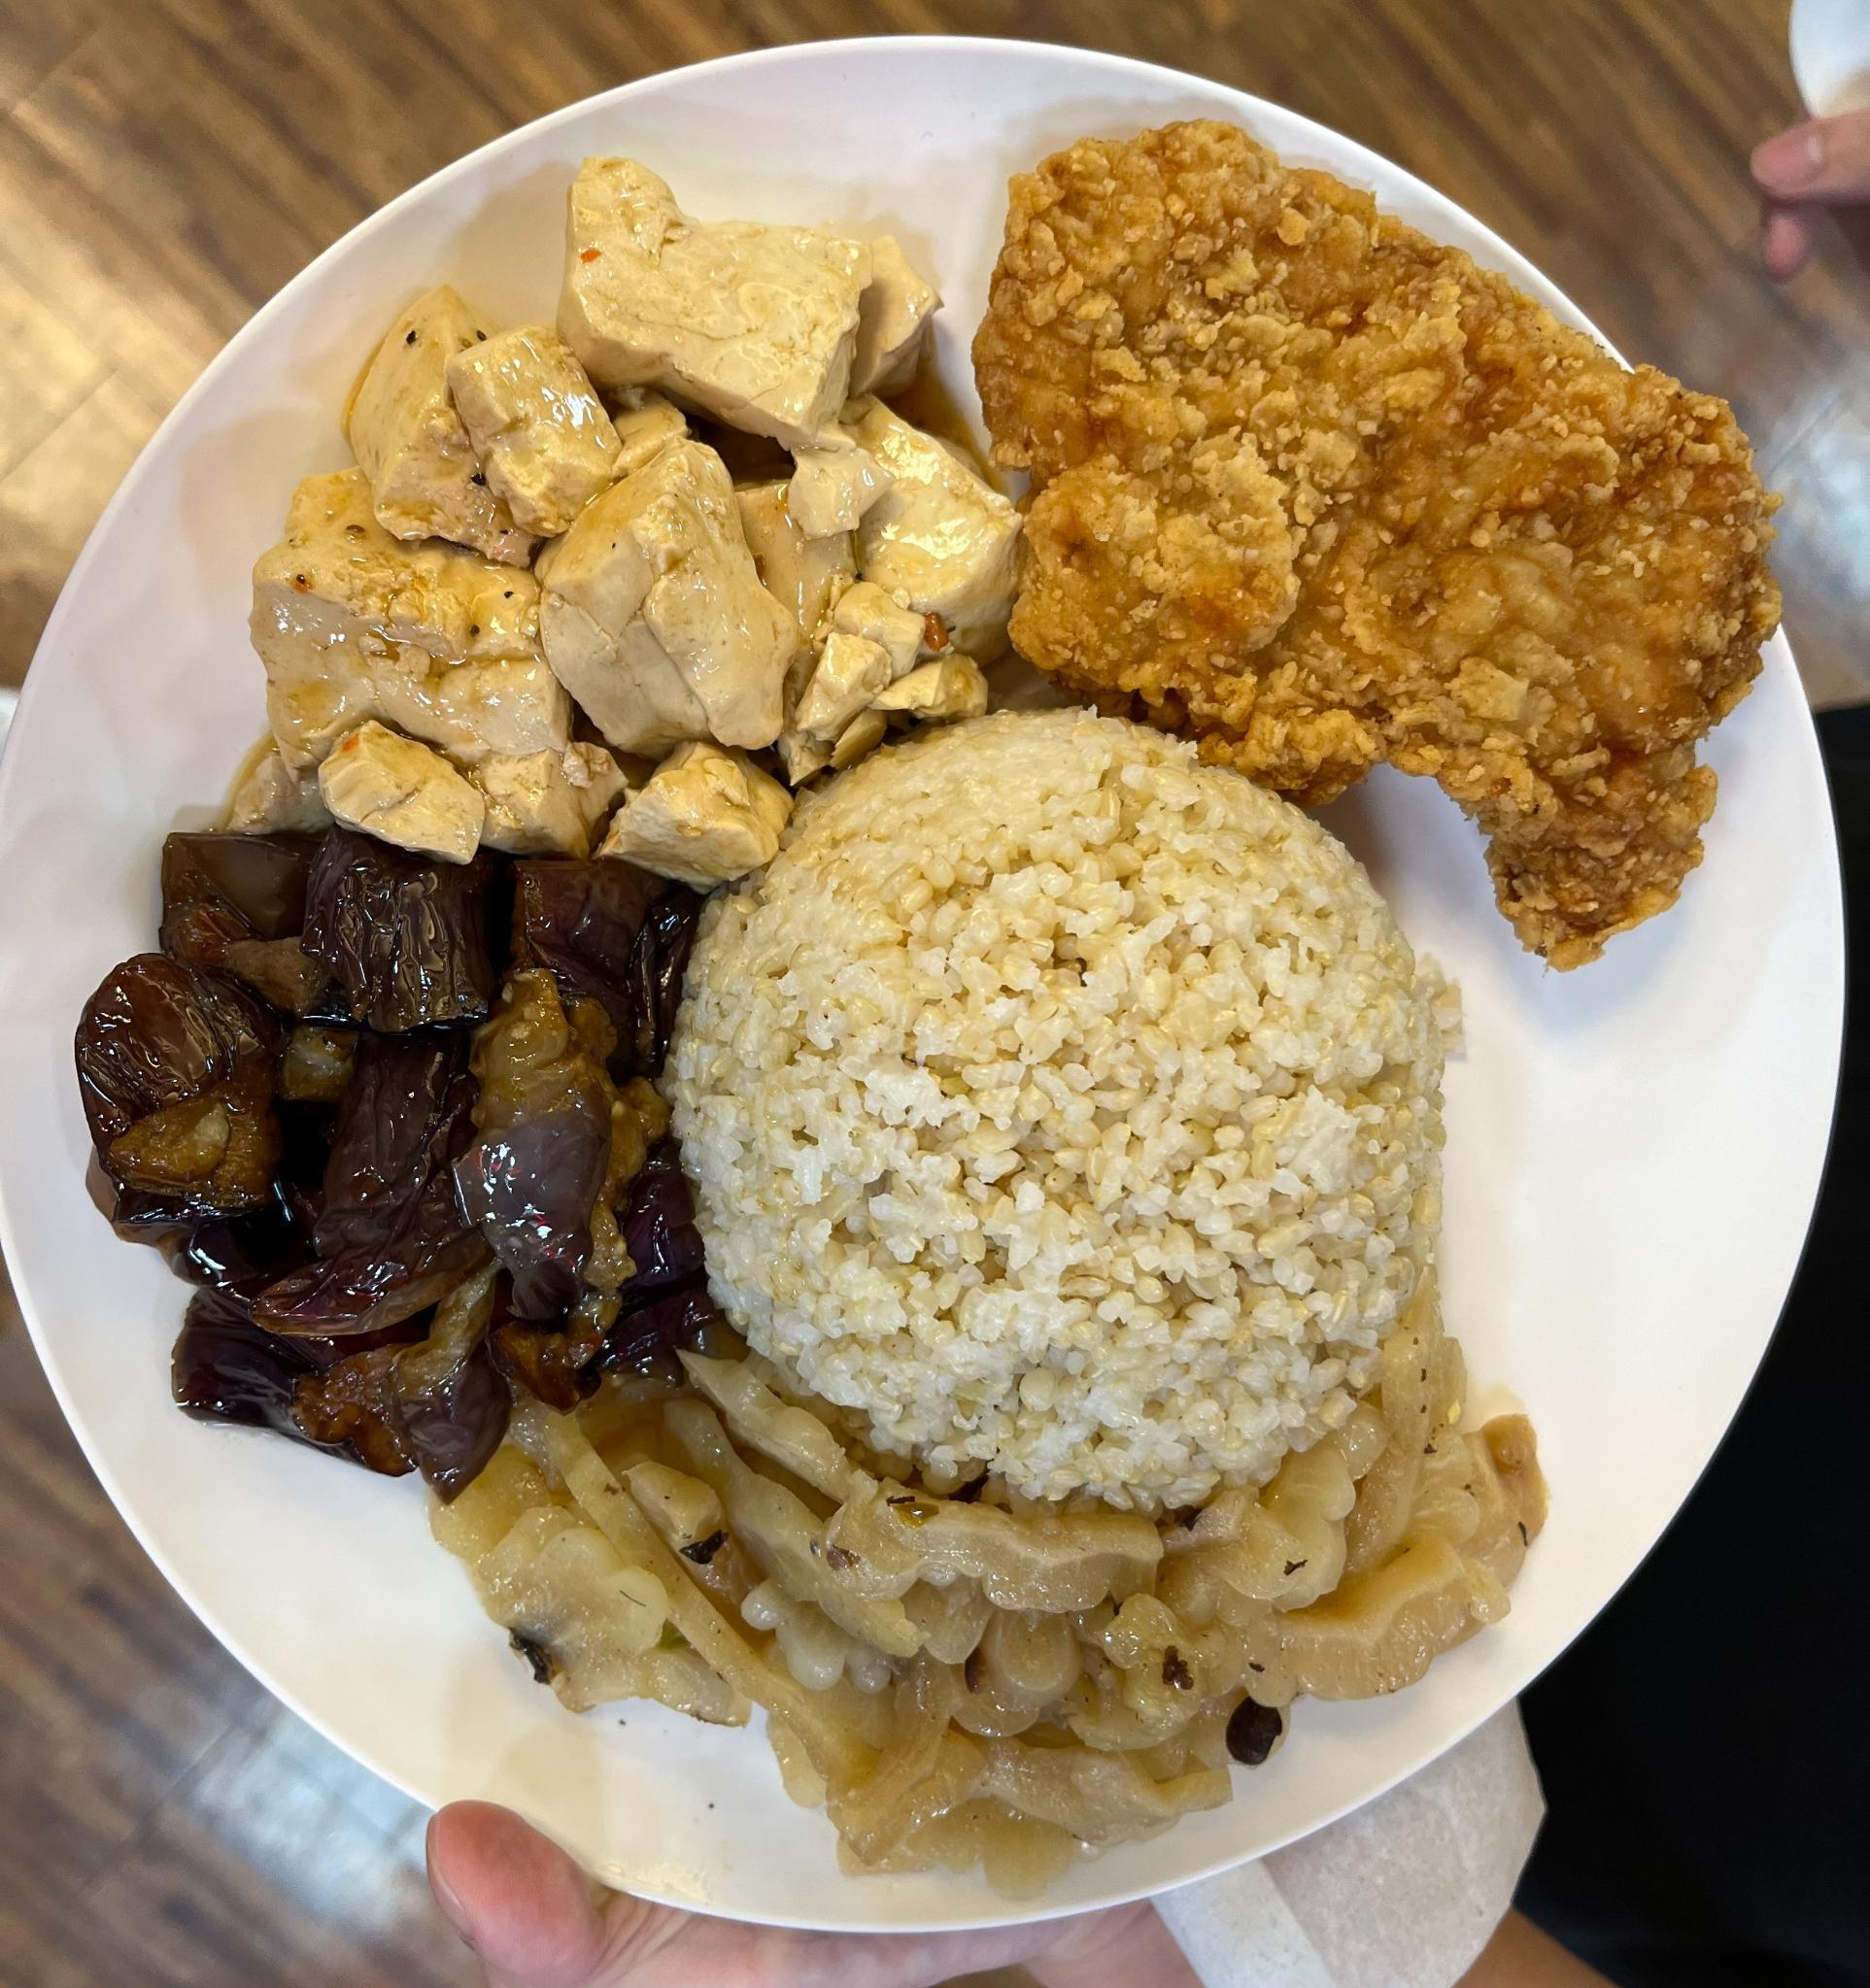big fried chicken leg: (33, 20, 1857, 1974)
box: (665, 701, 1457, 1531)
braised fish fillet: (439, 1325, 1535, 1892), (235, 138, 960, 888), (85, 805, 705, 1470)
braised pork: (978, 119, 1779, 972)
